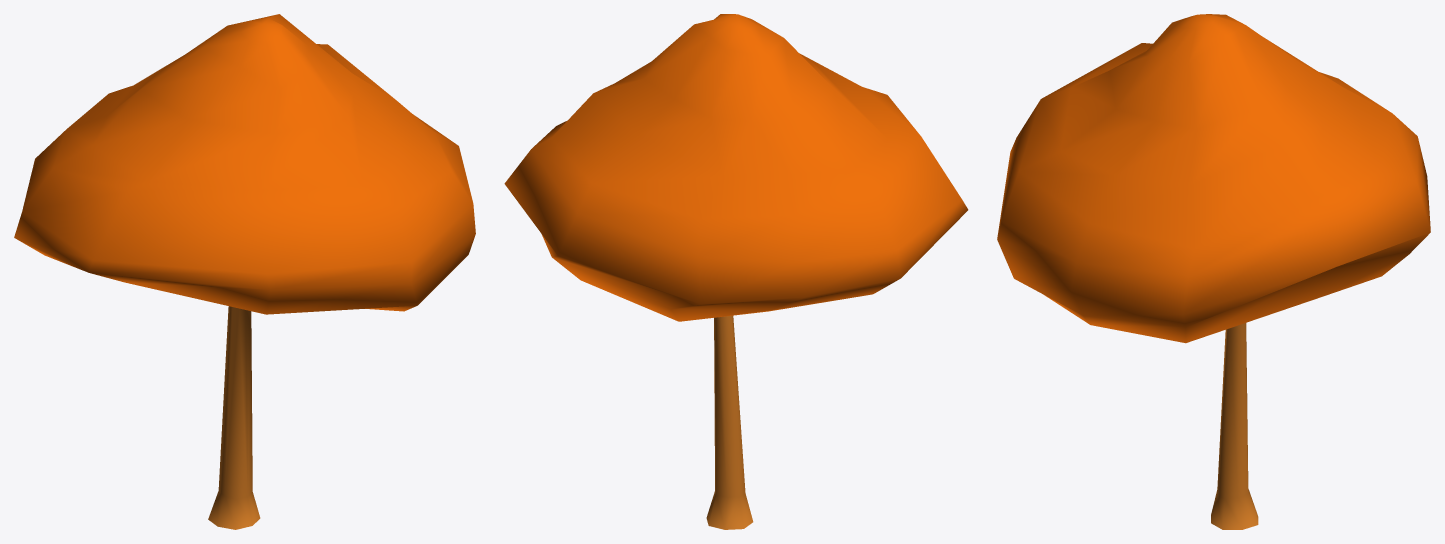
Rendered from Tree_05_Fall.fbx.
The picture shows the model from 3 angles, left to right: view 1: azimuth 30°, elevation 25°; view 2: azimuth 150°, elevation 25°; view 3: azimuth 270°, elevation 25°; orthographic projection. The views are drawn at different scales.
Parts seen in each view (by area): view 1: Tree_05_p2_Fall, Tree_05_p1_Fall; view 2: Tree_05_p2_Fall, Tree_05_p1_Fall; view 3: Tree_05_p2_Fall, Tree_05_p1_Fall.
Boxes of the visible parts, bbox=[...] form: Tree_05_p2_Fall: bbox=[14, 14, 475, 314]; Tree_05_p1_Fall: bbox=[208, 306, 260, 529]; Tree_05_p2_Fall: bbox=[504, 14, 968, 321]; Tree_05_p1_Fall: bbox=[706, 315, 753, 529]; Tree_05_p2_Fall: bbox=[997, 14, 1430, 343]; Tree_05_p1_Fall: bbox=[1211, 323, 1258, 529].
Bounding box in the file's own units: 484 × 580 × 447.
